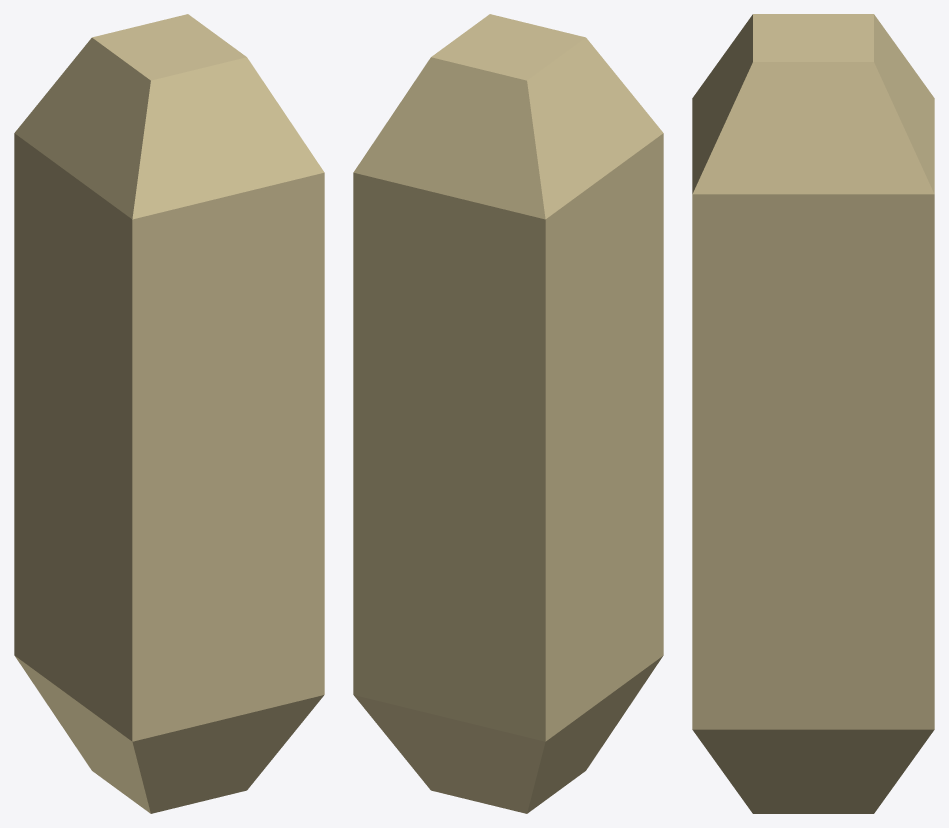
File: Bandit5UpperLeg.fbx
The picture shows the model from 3 angles, left to right: view 1: azimuth 30°, elevation 25°; view 2: azimuth 150°, elevation 25°; view 3: azimuth 270°, elevation 25°; orthographic projection. The views are drawn at different scales.
Parts seen in each view (by area): view 1: Bandit5UpperLeg; view 2: Bandit5UpperLeg; view 3: Bandit5UpperLeg.
Part boxes in pixels (x1,y1,x2,y2): Bandit5UpperLeg: (14, 14, 324, 813); Bandit5UpperLeg: (353, 14, 663, 813); Bandit5UpperLeg: (692, 14, 934, 813).
Size of the model in its own units: 0.1568 by 0.5717 by 0.1668.
